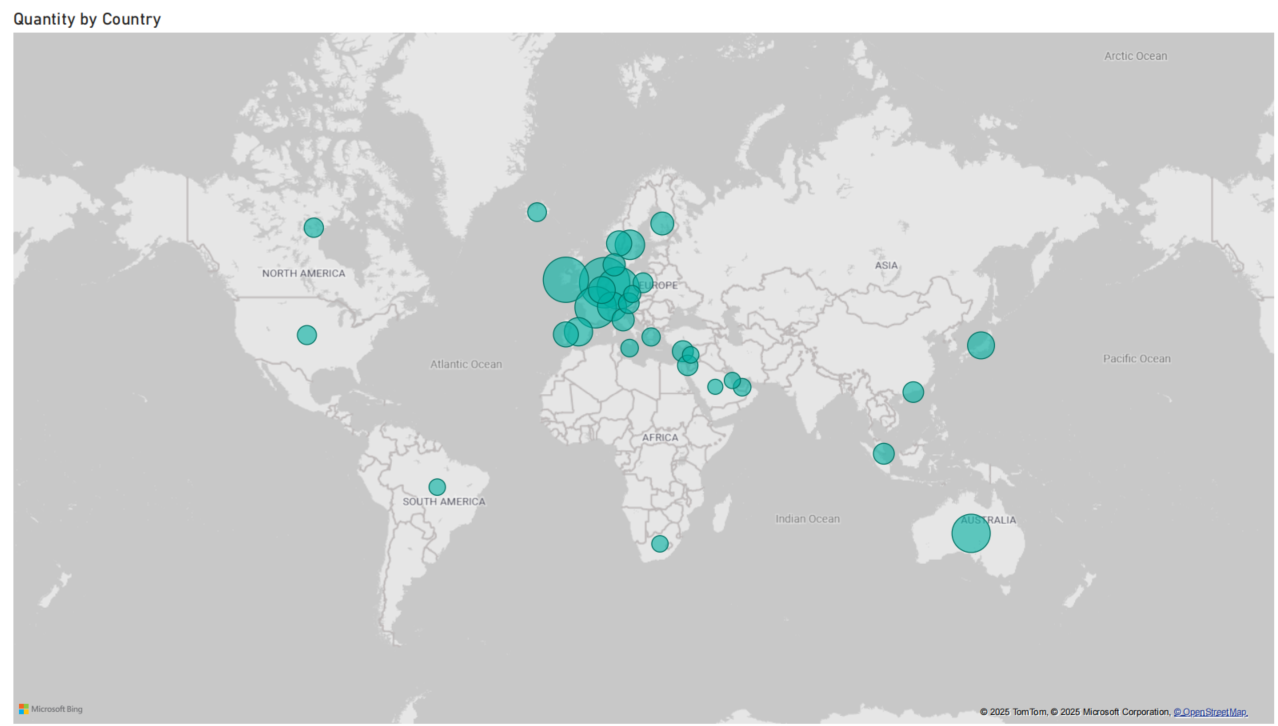

The page's visual inventory and layout, read from the dashboard file:
{"tool":"powerbi","page":{"name":"4","canvas":[1280,720],"ordinal":3},"visuals":[{"type":"map","fields":{"Category":["Online Retail.Country"],"Size":["Sum(Online Retail.Quantity)"]},"box":[10.7,0,1226.3,720.8],"z":0}]}

Visuals, with their boxes in screenshot pixels (x1, y1, x2, y2), scaled from the page's 1280x720 canvas onto the 1278x726 screenshot:
map - Online Retail.Country x Sum(Online Retail.Quantity): 11,0,1235,725
